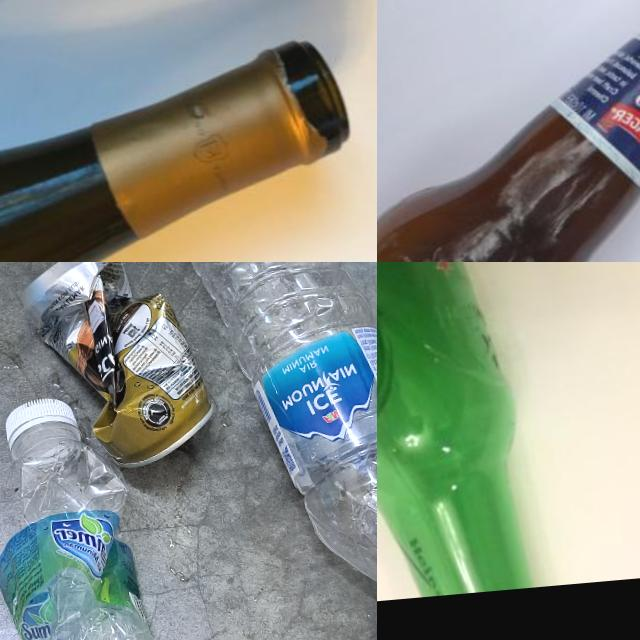garrafa de vidro: (0, 36, 370, 262), (377, 0, 640, 262), (377, 262, 538, 611)
garrafa plástica: (182, 262, 377, 617), (0, 438, 160, 640)
lata: (21, 262, 216, 485)
tampa plástica: (1, 393, 80, 462)
